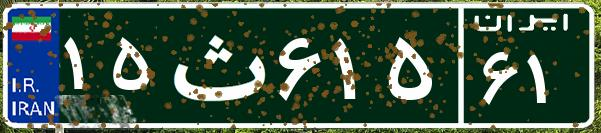1: (330, 28, 385, 110), (57, 26, 110, 107), (525, 38, 570, 115)
5: (385, 28, 445, 110), (110, 28, 158, 105)
6: (273, 28, 330, 110), (475, 38, 525, 113)
ث: (158, 15, 273, 115)
